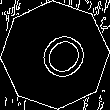O_SW: (22, 22, 88, 88)
